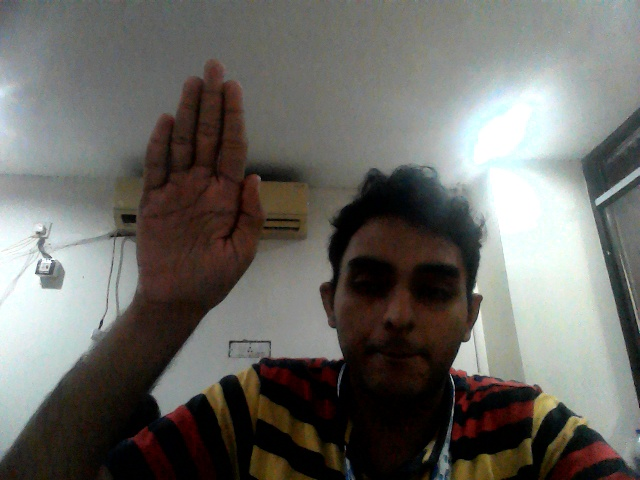palm: (129, 51, 269, 313)
